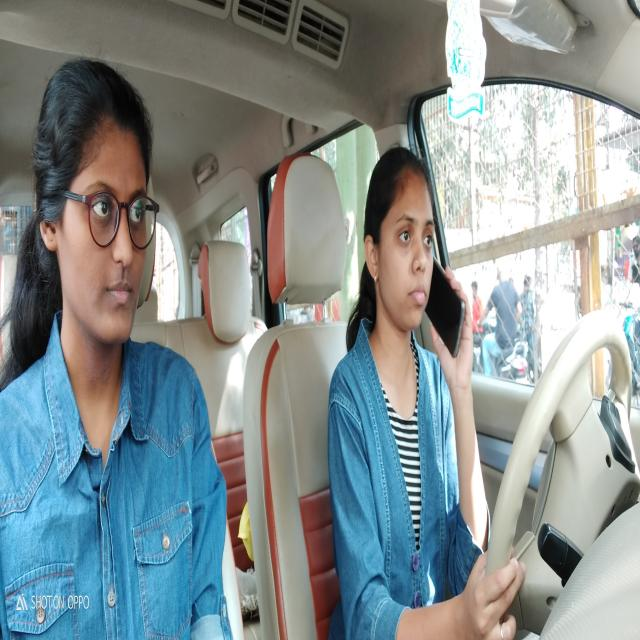mobile: (425, 253, 468, 369)
person: (33, 53, 158, 349), (364, 141, 440, 336)
